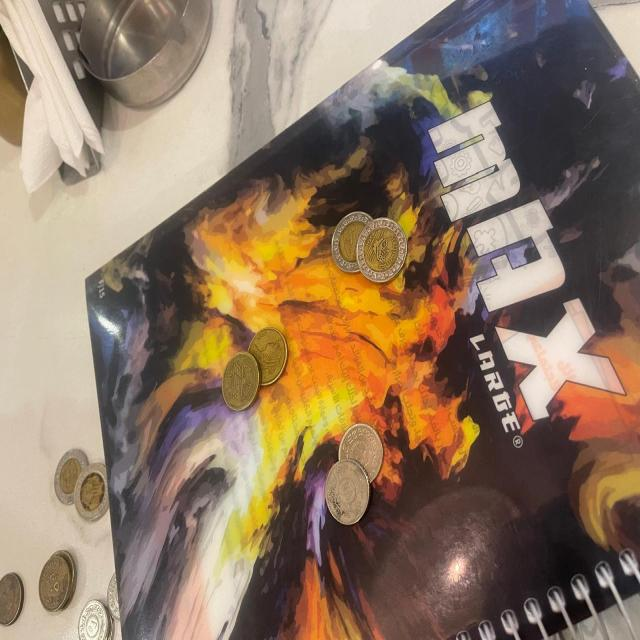Half Pound: (216, 351, 261, 411), (38, 550, 77, 614), (249, 326, 289, 386), (0, 572, 25, 626), (108, 573, 120, 622)
One Pound: (359, 217, 412, 288), (333, 211, 375, 272), (74, 468, 110, 524), (54, 449, 89, 502), (78, 598, 114, 640)
quarter pound: (320, 460, 372, 526), (341, 423, 384, 483)
